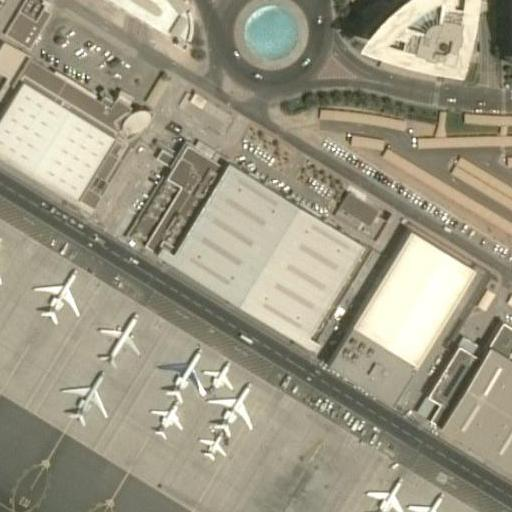Aircraft: (30, 265, 83, 324), (91, 308, 144, 367), (61, 368, 113, 424), (210, 379, 262, 429), (160, 345, 206, 395), (143, 393, 184, 441), (358, 473, 406, 512), (201, 358, 244, 392), (196, 427, 233, 465), (400, 492, 448, 512), (0, 235, 7, 289)
